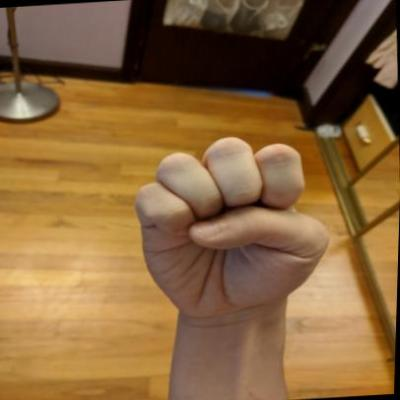hand: (125, 128, 341, 319)
